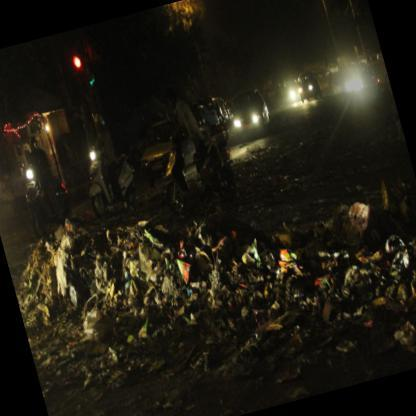Garbage: (21, 149, 415, 415), (94, 242, 304, 323), (56, 258, 195, 360), (159, 209, 255, 302), (32, 219, 96, 307), (287, 240, 351, 326), (245, 228, 310, 302), (7, 252, 60, 342), (367, 168, 415, 254), (358, 226, 415, 295), (336, 202, 391, 262), (131, 226, 168, 290)
